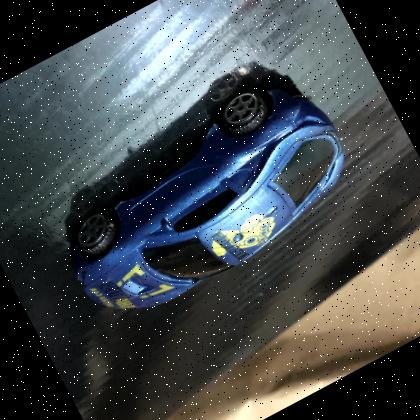Car: (69, 86, 345, 309)
